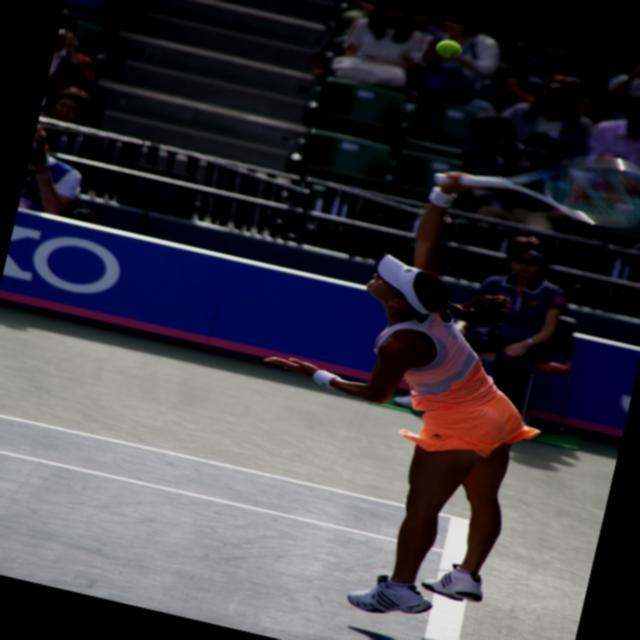Tennis ball: (432, 37, 462, 63)
